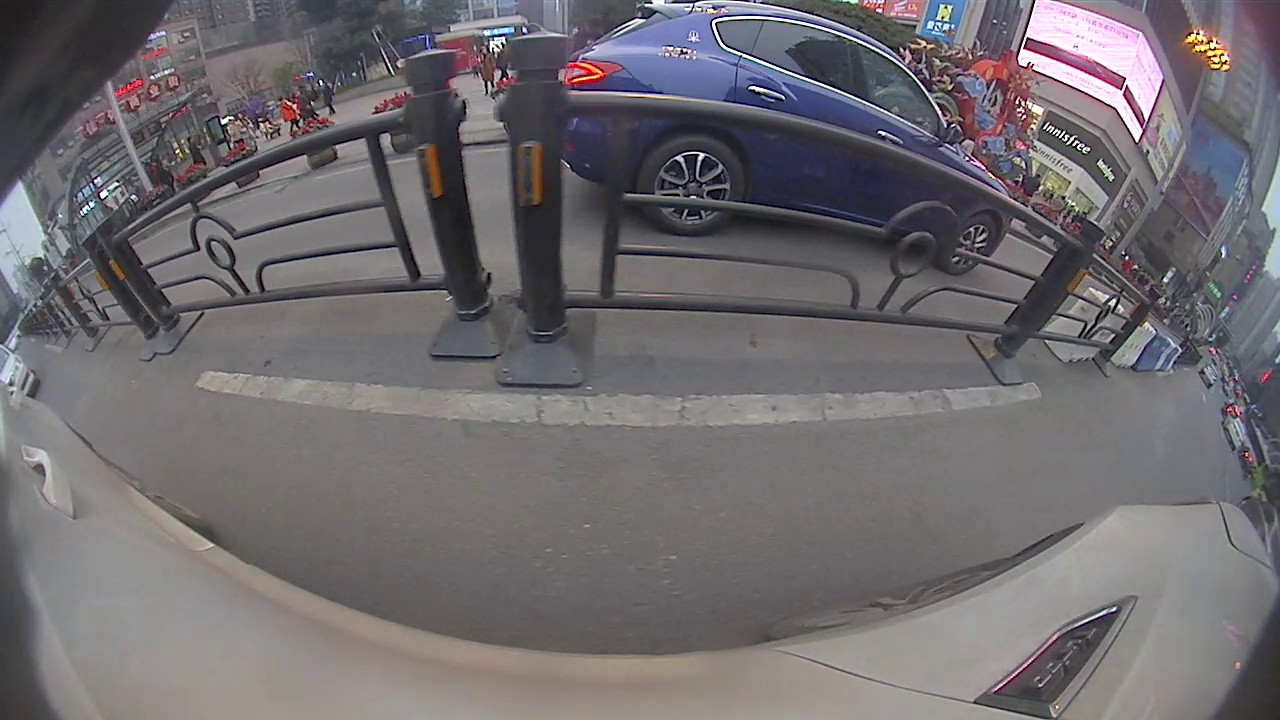car: (554, 4, 1013, 277)
front: (939, 217, 1003, 275)
rear: (640, 132, 747, 236)
